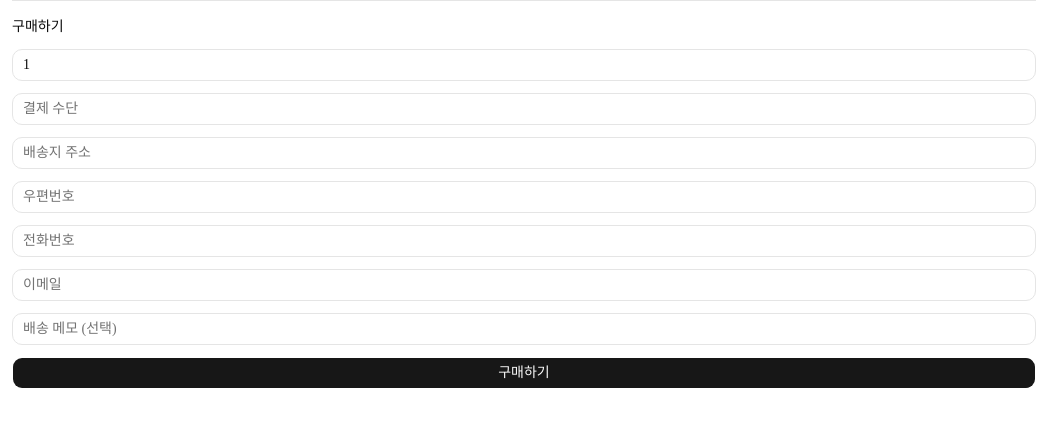
PurchaseForm › 구매 요청이 거부되면 에러 메시지를 표시한다
Type "CARD" into the field with placeholder "결제 수단". click: (524, 109)
box: 12,93 -> 1036,125
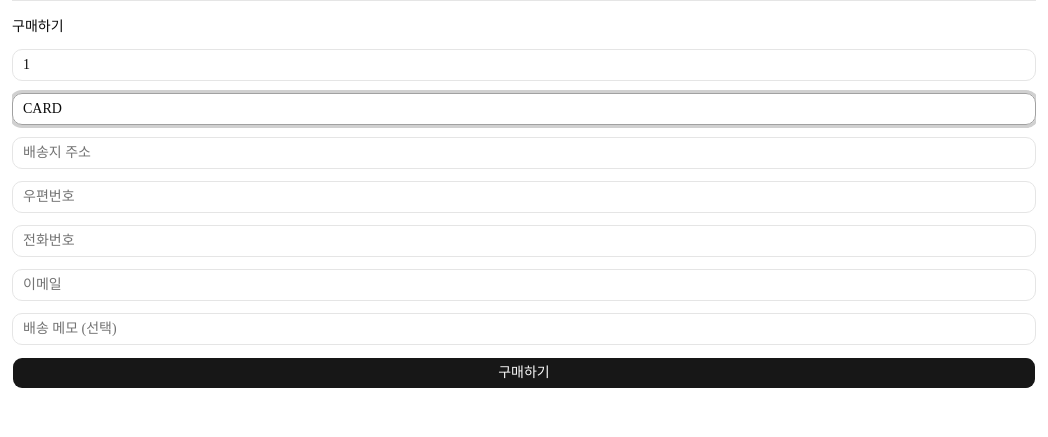
Type "서울시 강남구" into the field with placeholder "배송지 주소". click: (524, 153)
box: 12,137 -> 1036,169
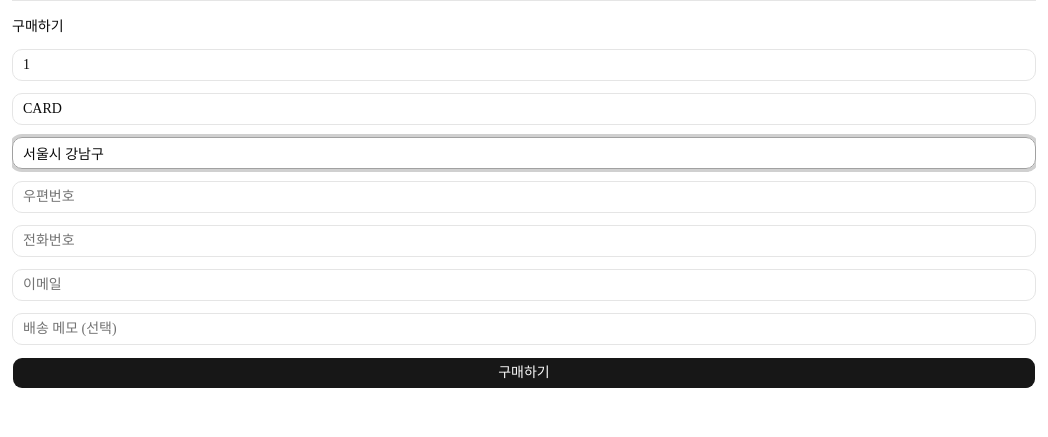
Type "06236" into the field with placeholder "우편번호". click: (524, 197)
box: 12,181 -> 1036,213
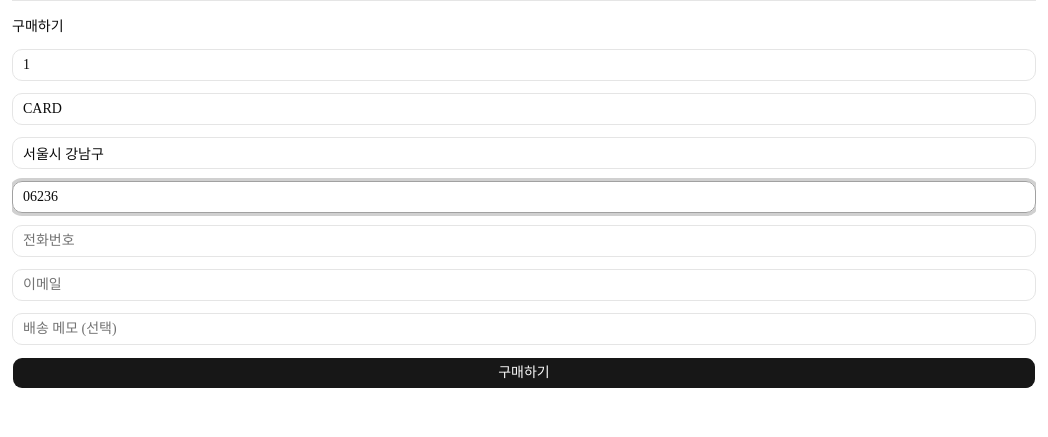
Type "010-1234-5678" into the field with placeholder "전화번호". click: (524, 241)
box: 12,225 -> 1036,257
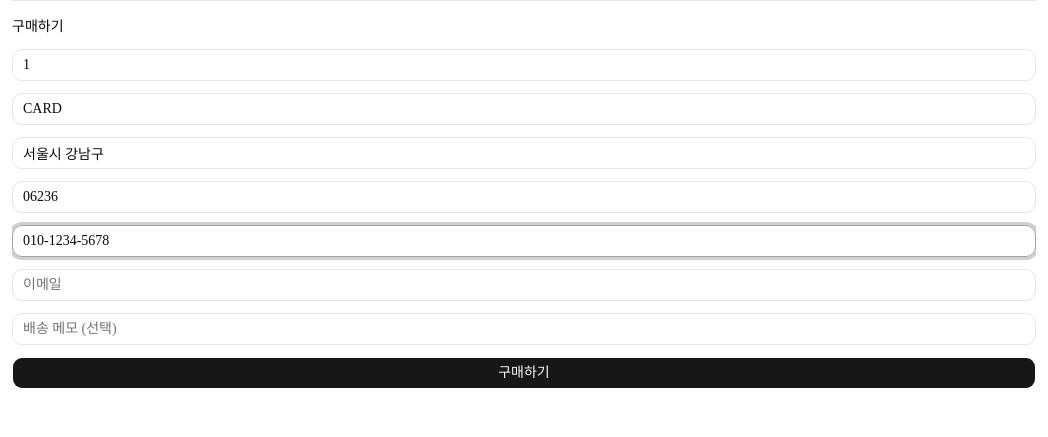
Type "test@example.com" into the field with placeholder "이메일". click: (524, 285)
box: 12,269 -> 1036,301
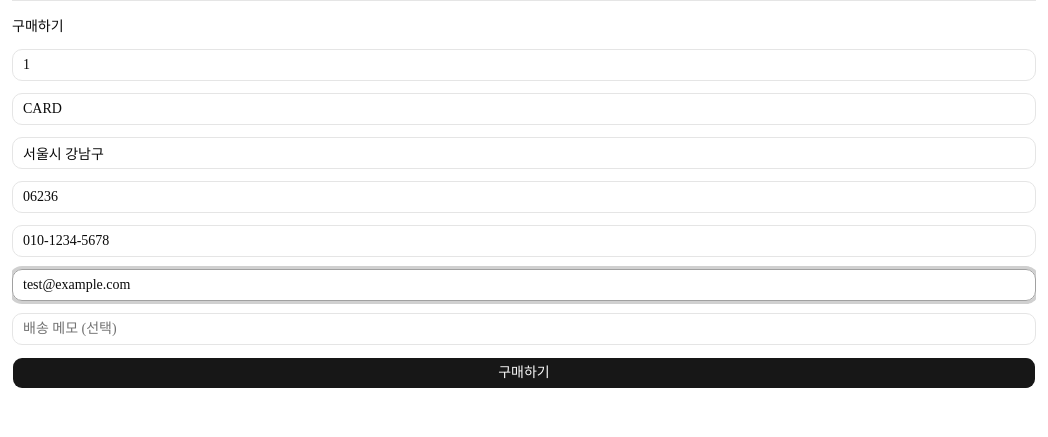
Click the button "구매하기". click: (524, 373)
box: 12,357 -> 1036,389
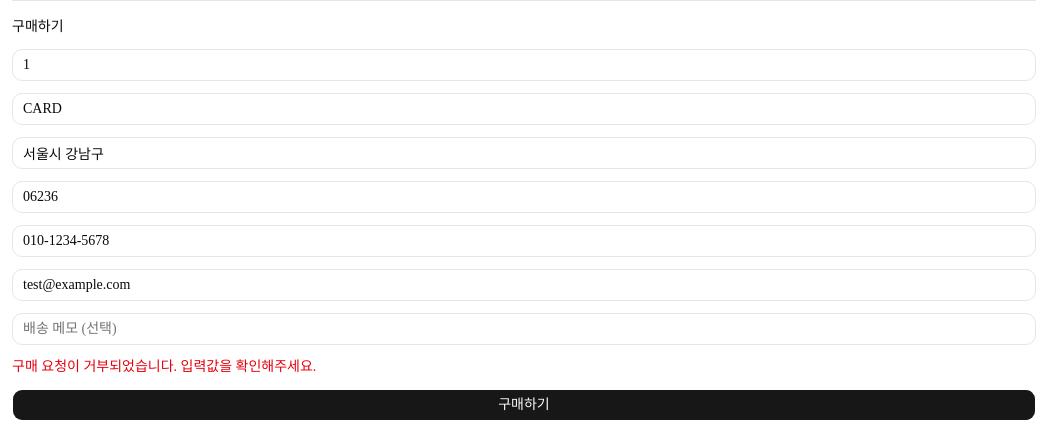
Expected: the text "구매 요청이 거부되었습니다. 입력값을 확인해주세요." is shown, 12,359 -> 316,374
